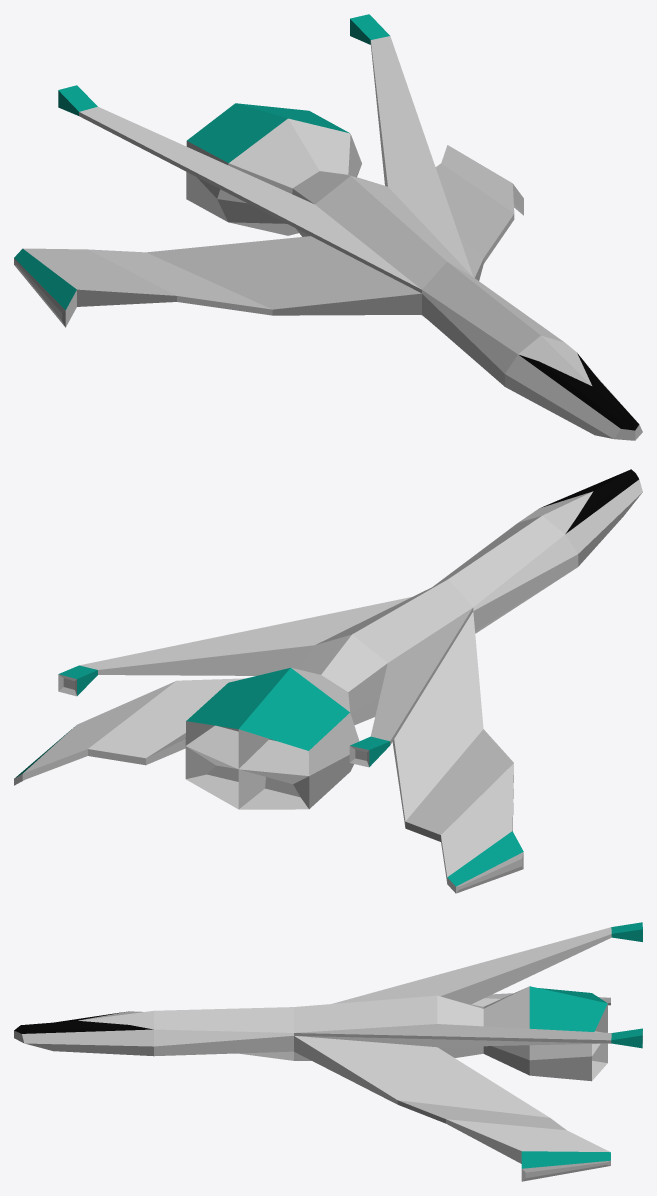
File: ship3.obj
3 views of the same model, one above another, from view 1: azimuth 30°, elevation 25°; view 2: azimuth 150°, elevation 25°; view 3: azimuth 270°, elevation 25° (orthographic). The views are drawn at different scales.
Visible parts, largest first — view 1: Cube; view 2: Cube; view 3: Cube.
Boxes of the visible parts, box(x1,y1,x2,y2) form: Cube: box(14, 14, 642, 440); Cube: box(14, 469, 642, 893); Cube: box(14, 922, 642, 1181).
Bounding box in the file's own units: 4.92 × 1.64 × 7.83.
